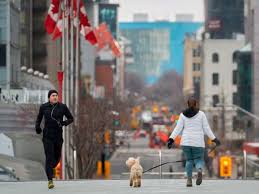Good: (35, 89, 222, 153)
